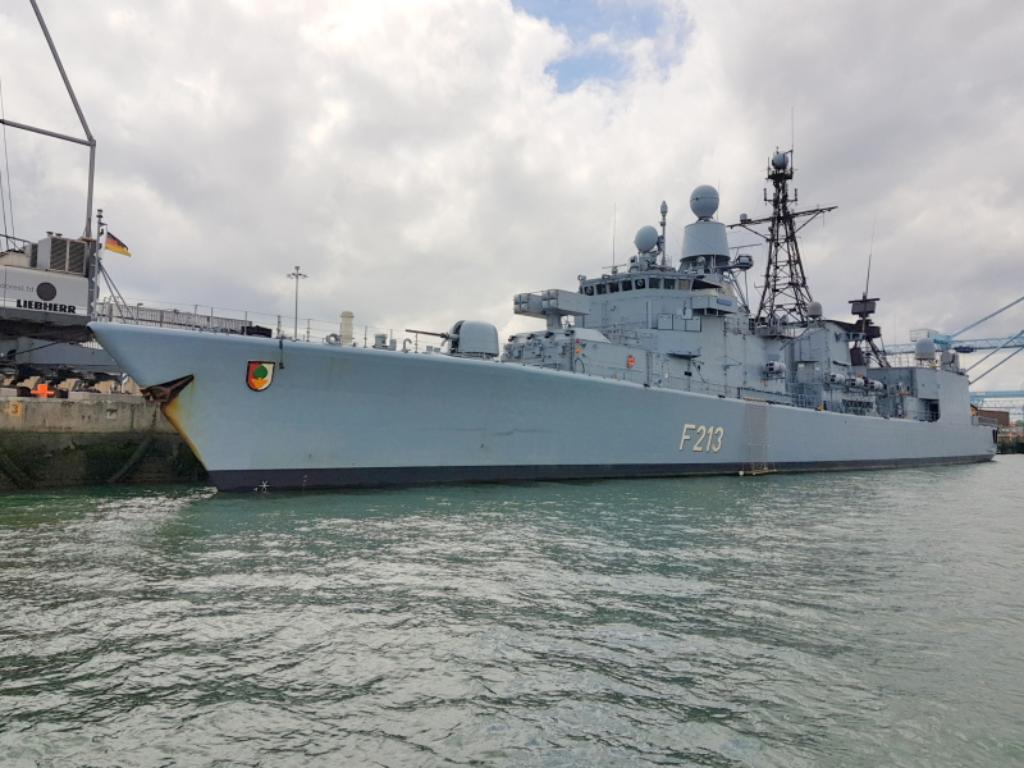Warship: (73, 148, 1001, 502)
